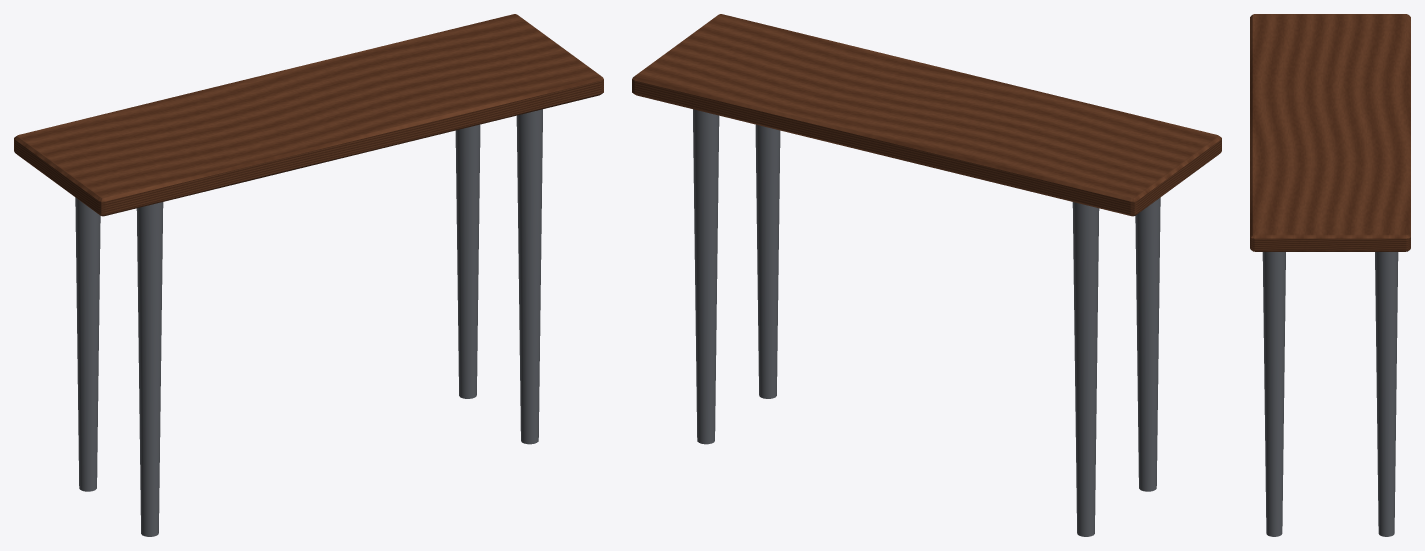
Rendered from console_walnut.glb.
3 views of the same model, side by side, from view 1: azimuth 30°, elevation 25°; view 2: azimuth 150°, elevation 25°; view 3: azimuth 270°, elevation 25° (orthographic). The views are drawn at different scales.
Parts seen in each view (by area): view 1: console_walnut_woodWalnut, console_walnut_metalBlack; view 2: console_walnut_woodWalnut, console_walnut_metalBlack; view 3: console_walnut_woodWalnut, console_walnut_metalBlack.
Part boxes in pixels (<box>): console_walnut_woodWalnut: <box>14,14,603,216</box>; console_walnut_metalBlack: <box>75,109,542,536</box>; console_walnut_woodWalnut: <box>632,14,1221,216</box>; console_walnut_metalBlack: <box>693,109,1160,536</box>; console_walnut_woodWalnut: <box>1250,14,1410,251</box>; console_walnut_metalBlack: <box>1262,252,1398,536</box>.
Size of what is drawn, in the model's own units: 1.15 by 0.78 by 0.35.
Materials: 2 (1 with a texture image).
